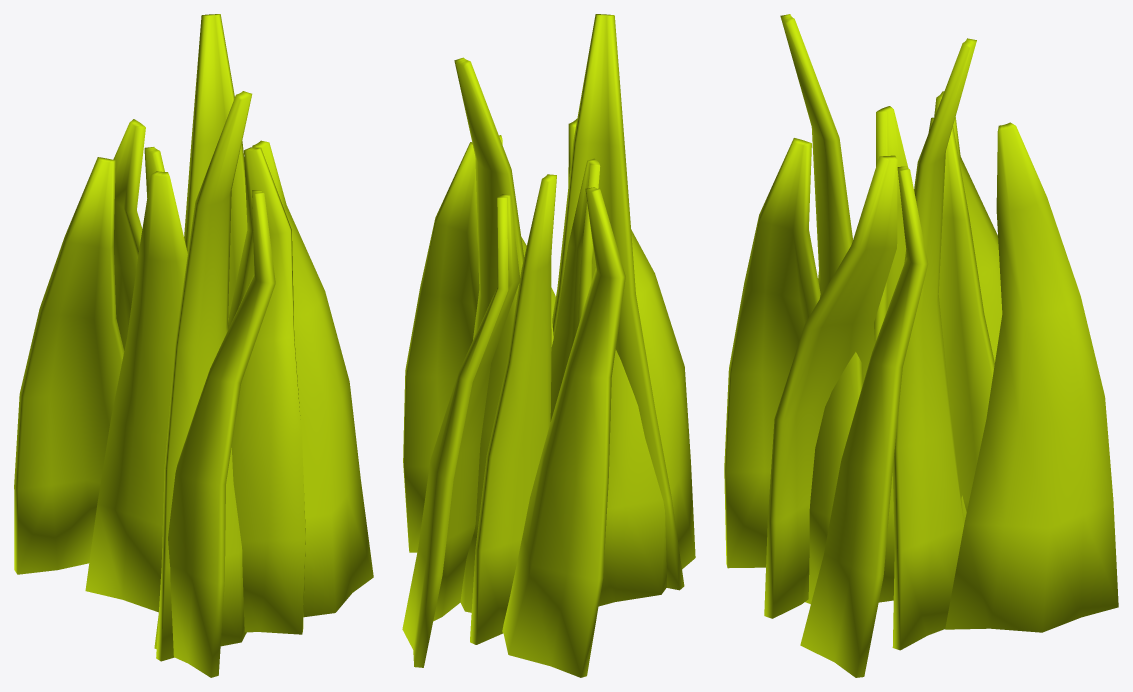
File: grass.fbx
3 renders of one model, left to right at view 1: azimuth 30°, elevation 25°; view 2: azimuth 150°, elevation 25°; view 3: azimuth 270°, elevation 25°, orthographic. The views are drawn at different scales.
Parts seen in each view (by area): view 1: Grass.001; view 2: Grass.001; view 3: Grass.001.
Part boxes in pixels (bbox=[...]): Grass.001: bbox=[14, 14, 373, 677]; Grass.001: bbox=[402, 14, 695, 677]; Grass.001: bbox=[724, 14, 1118, 677].
Bounding box in the file's own units: 65.2 × 125 × 76.84.
